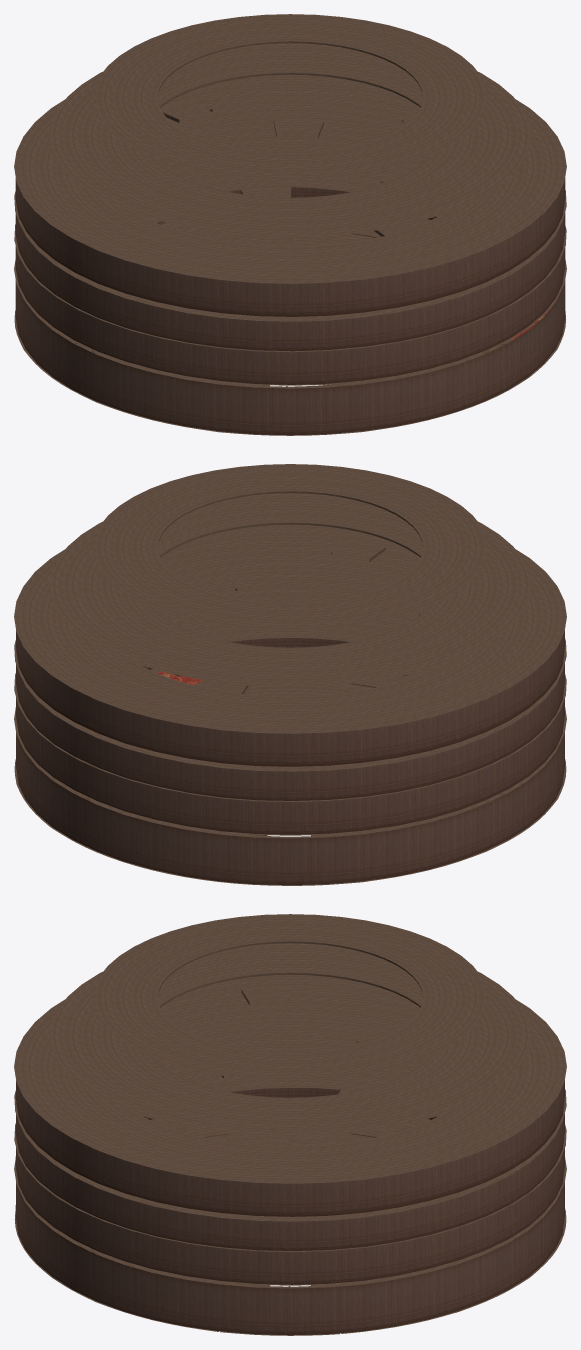
File: GameObject.fbx
The picture shows the model from 3 angles, top to bottom: view 1: azimuth 30°, elevation 25°; view 2: azimuth 150°, elevation 25°; view 3: azimuth 270°, elevation 25°; orthographic projection.
Visible parts, largest first — view 1: fb_jz_dimian_01__1_, fb_jz_wall_01; view 2: fb_jz_dimian_01__1_, fb_jz_wall_01; view 3: fb_jz_dimian_01__1_, fb_jz_wall_01.
Boxes of the visible parts, box(x1,y1,x2,y2) form: fb_jz_dimian_01__1_: box(14, 14, 566, 435); fb_jz_wall_01: box(15, 178, 565, 435); fb_jz_dimian_01__1_: box(14, 464, 566, 885); fb_jz_wall_01: box(16, 569, 564, 884); fb_jz_dimian_01__1_: box(14, 914, 566, 1335); fb_jz_wall_01: box(15, 1080, 564, 1335).
Bounding box in the file's own units: 6002 × 2698 × 6002.
4 materials, 4 textured.
